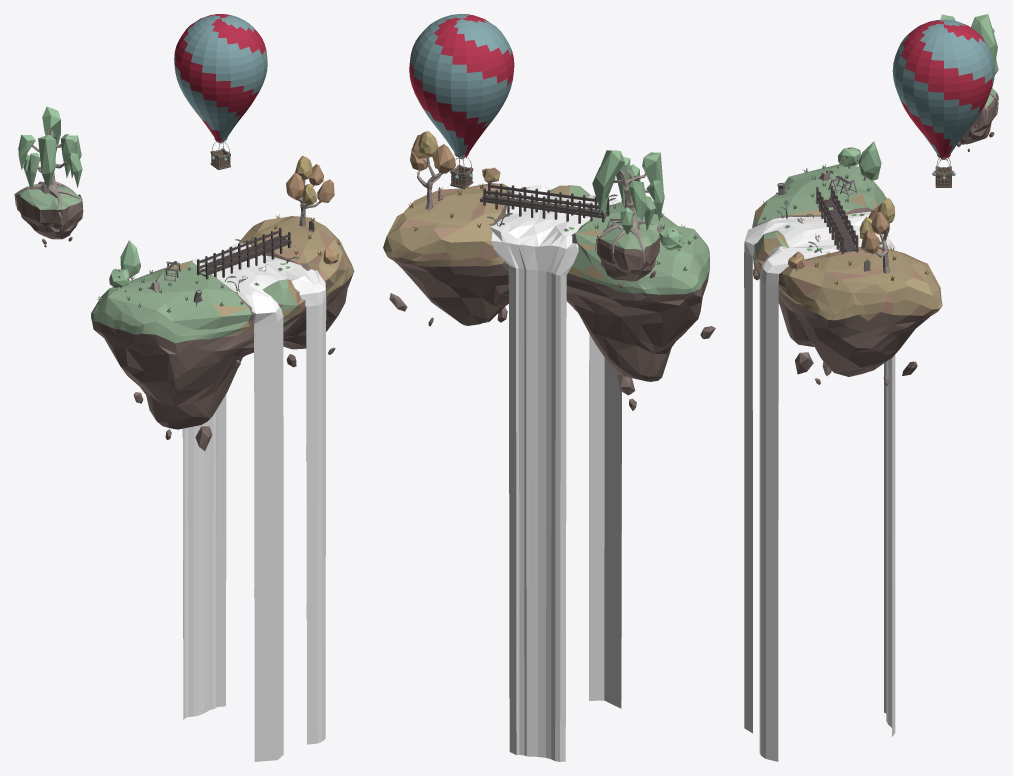
The model's file is Diorama.fbx.
3 renders of one model, left to right at view 1: azimuth 30°, elevation 25°; view 2: azimuth 150°, elevation 25°; view 3: azimuth 270°, elevation 25°, orthographic. The views are drawn at different scales.
Visible parts, largest first — view 1: Waterfall, BigIsland, pasted__pasted__Balloon, Island, WillowTrunk, pasted__pasted__pasted__pPlatonic4; view 2: Waterfall, BigIsland, pasted__pasted__Balloon, Island, WillowTrunk, pasted__pasted__pasted__pPlatonic6; view 3: Waterfall, BigIsland, pasted__pasted__Balloon, Island, TallBush, pasted__pasted__pasted__pPlatonic6.
Part boxes in pixels (x1=…): Waterfall: x1=182, y1=243, x2=326, y2=761; BigIsland: x1=91, y1=216, x2=354, y2=429; pasted__pasted__Balloon: x1=174, y1=14, x2=267, y2=141; Island: x1=16, y1=184, x2=83, y2=239; WillowTrunk: x1=14, y1=130, x2=83, y2=231; pasted__pasted__pasted__pPlatonic4: x1=38, y1=134, x2=56, y2=189; Waterfall: x1=490, y1=185, x2=621, y2=761; BigIsland: x1=383, y1=183, x2=709, y2=381; pasted__pasted__Balloon: x1=409, y1=14, x2=514, y2=157; Island: x1=597, y1=222, x2=659, y2=281; WillowTrunk: x1=595, y1=169, x2=655, y2=278; pasted__pasted__pasted__pPlatonic6: x1=596, y1=150, x2=625, y2=215; Waterfall: x1=744, y1=211, x2=896, y2=761; BigIsland: x1=752, y1=164, x2=942, y2=376; pasted__pasted__Balloon: x1=892, y1=19, x2=994, y2=158; Island: x1=960, y1=88, x2=998, y2=144; TallBush: x1=858, y1=141, x2=881, y2=180; pasted__pasted__pasted__pPlatonic6: x1=971, y1=14, x2=997, y2=66.
Bounding box in the file's own units: 21.84 × 51.83 × 16.56.
